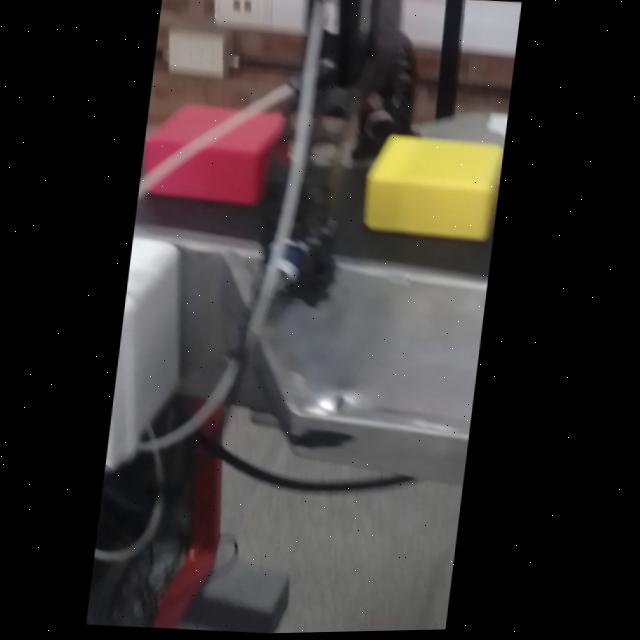redBox: (358, 119, 508, 262), (138, 87, 297, 221)
